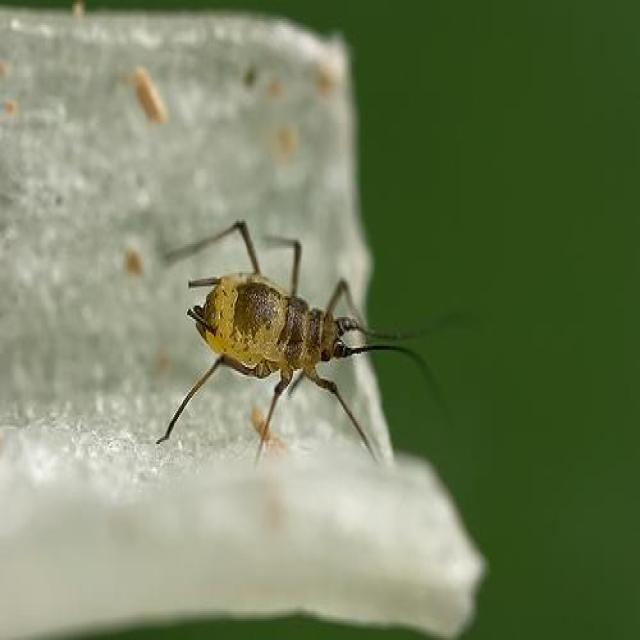Aphids: (179, 211, 439, 471)
